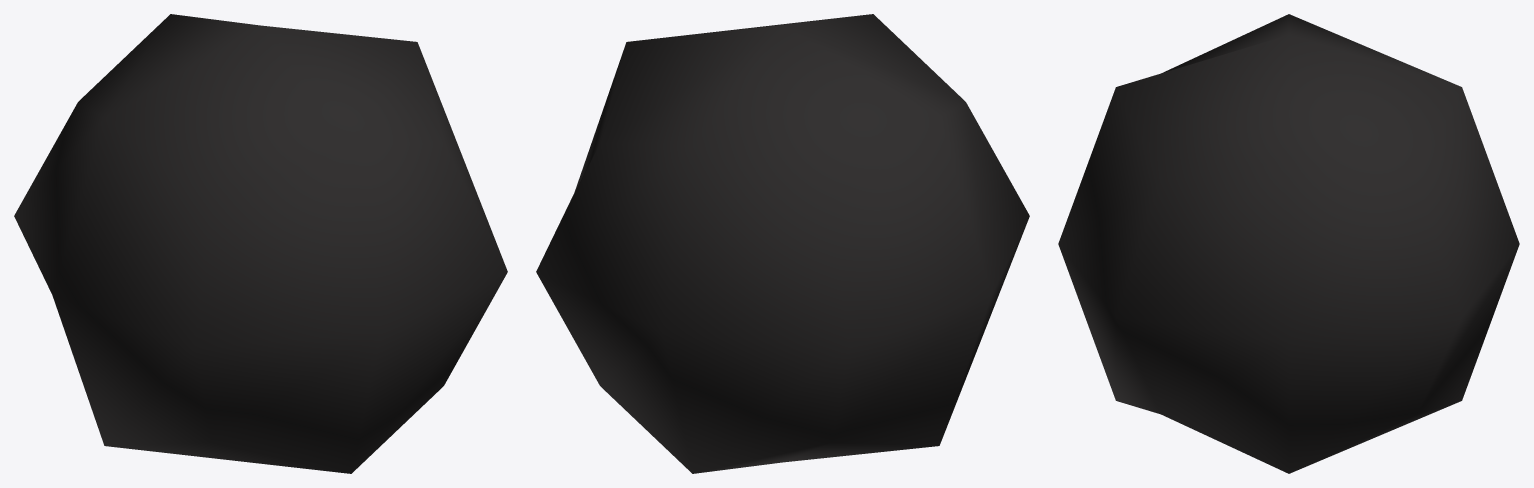
The model's file is Cannonball.fbx.
The picture shows the model from 3 angles, left to right: view 1: azimuth 30°, elevation 25°; view 2: azimuth 150°, elevation 25°; view 3: azimuth 270°, elevation 25°; orthographic projection. The views are drawn at different scales.
Visible parts, largest first — view 1: Cannonball; view 2: Cannonball; view 3: Cannonball.
Boxes of the visible parts, x1=… form: Cannonball: x1=14, y1=14, x2=507, y2=473; Cannonball: x1=536, y1=14, x2=1029, y2=473; Cannonball: x1=1058, y1=14, x2=1519, y2=473.
Size of the model in its own units: 15 by 15 by 15.
